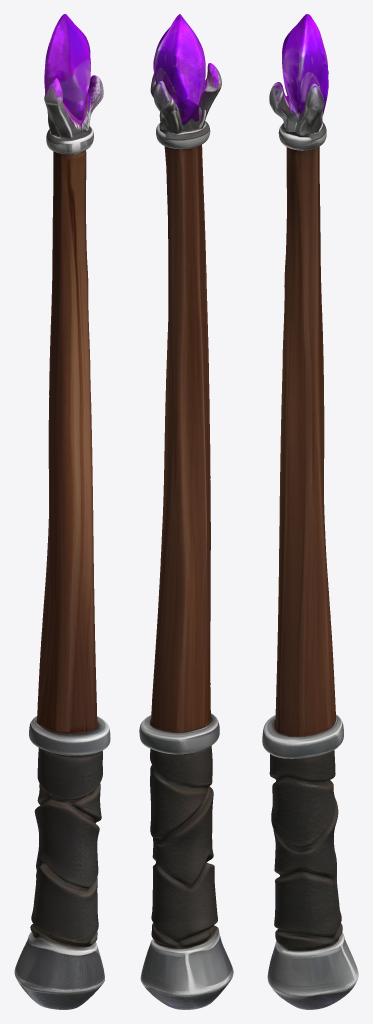
File: Wand.glb
3 views of the same model, side by side, from view 1: azimuth 90°, elevation 25°; view 2: azimuth 210°, elevation 25°; view 3: azimuth 270°, elevation 25° (orthographic).
Visible parts, largest first — view 1: Mesh_0; view 2: Mesh_0; view 3: Mesh_0.
Boxes of the visible parts, bbox=[...] form: Mesh_0: bbox=[14, 14, 110, 1009]; Mesh_0: bbox=[139, 14, 233, 1009]; Mesh_0: bbox=[262, 14, 358, 1009].
Bounding box in the file's own units: 0.2529 × 3 × 0.2641.
1 material, 1 textured.
